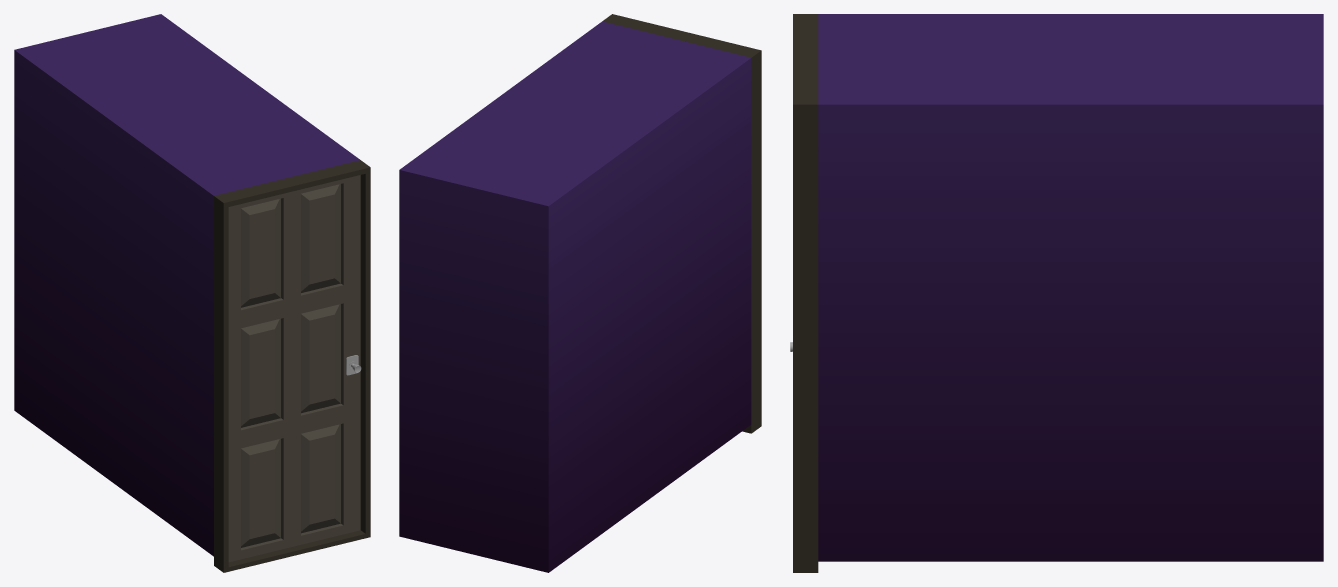
Rendered from Geo_Door.glb.
3 renders of one model, left to right at view 1: azimuth 30°, elevation 25°; view 2: azimuth 150°, elevation 25°; view 3: azimuth 270°, elevation 25°, orthographic. The views are drawn at different scales.
Parts seen in each view (by area): view 1: SM_Room, SM_DoorPanel, SM_DoorFrame; view 2: SM_Room, SM_DoorFrame; view 3: SM_Room, SM_DoorFrame.
Part boxes in pixels (left/top/right/bottom): SM_Room: left=14, top=14, right=359, bottom=556; SM_DoorPanel: left=228, top=175, right=361, bottom=562; SM_DoorFrame: left=214, top=160, right=370, bottom=572; SM_Room: left=399, top=21, right=751, bottom=572; SM_DoorFrame: left=602, top=14, right=761, bottom=433; SM_Room: left=818, top=14, right=1323, bottom=561; SM_DoorFrame: left=793, top=14, right=818, bottom=572.
Size of the model in its own units: 0.8501 by 2.05 by 2.11.
Materials: 4 (1 with a texture image).
